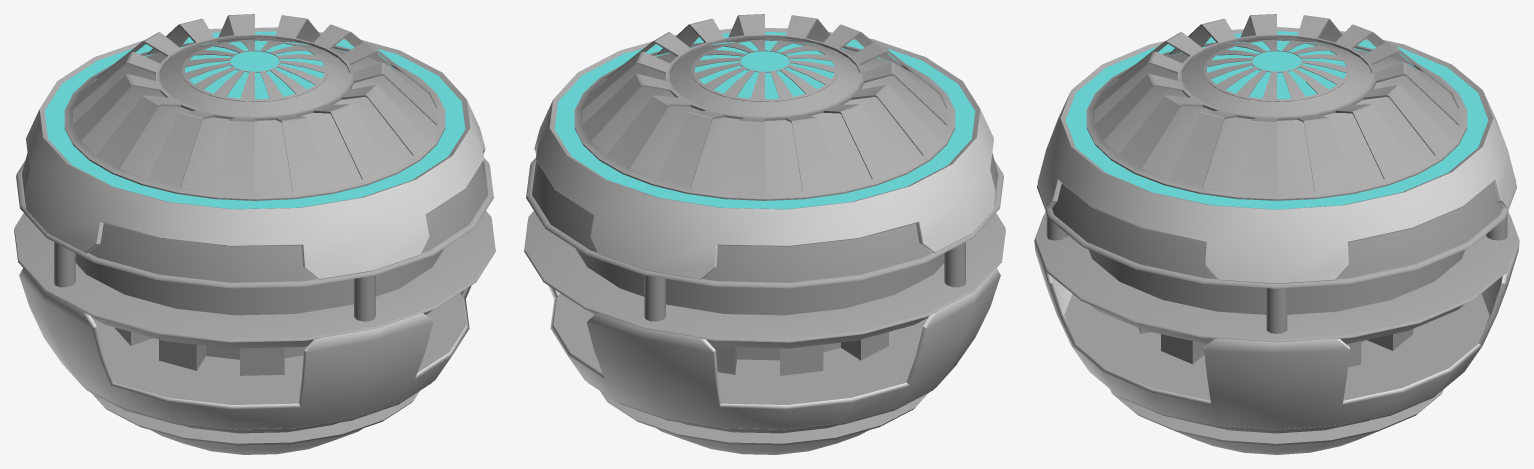
The model's file is eyeModel.fbx.
3 renders of one model, left to right at view 1: azimuth 30°, elevation 25°; view 2: azimuth 150°, elevation 25°; view 3: azimuth 270°, elevation 25°, orthographic.
Visible parts, largest first — view 1: eyeGeo; view 2: eyeGeo; view 3: eyeGeo.
Part boxes in pixels (left/top/right/bottom): eyeGeo: left=14, top=14, right=495, bottom=454; eyeGeo: left=524, top=14, right=1005, bottom=454; eyeGeo: left=1034, top=14, right=1519, bottom=454.
Bounding box in the file's own units: 0.0702 × 0.0594 × 0.0702.
